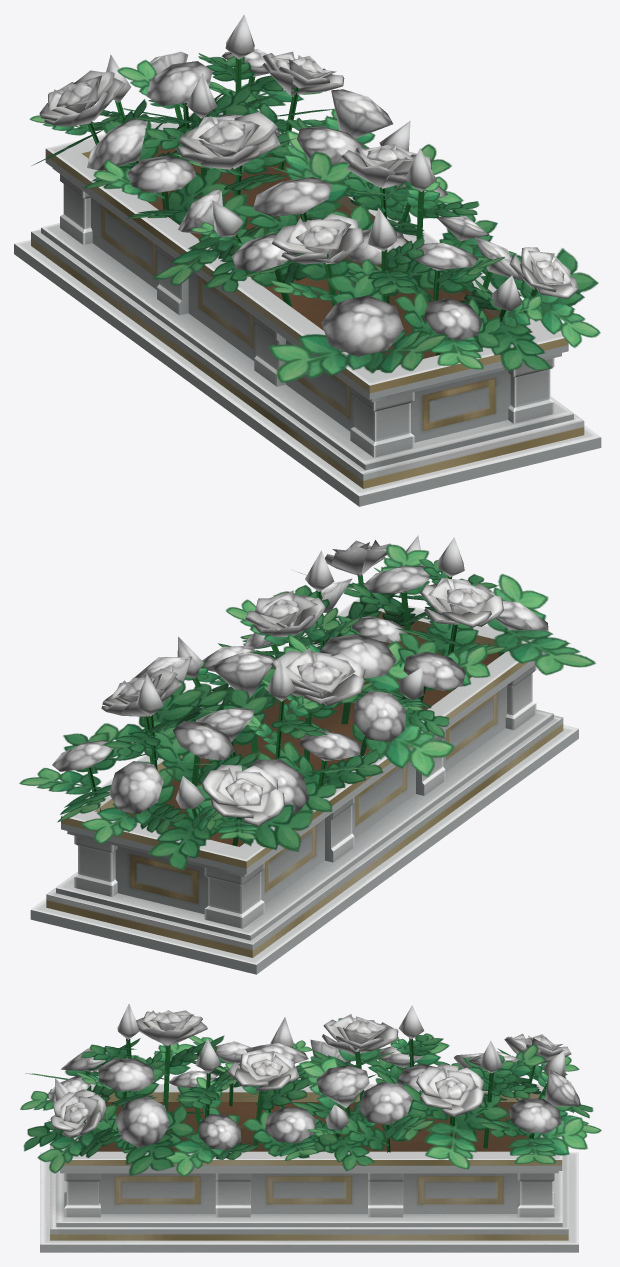
File: my_teaparty_01_flowerpot_02.glb
The picture shows the model from 3 angles, top to bottom: view 1: azimuth 30°, elevation 25°; view 2: azimuth 150°, elevation 25°; view 3: azimuth 270°, elevation 25°; orthographic projection. The views are drawn at different scales.
Parts seen in each view (by area): view 1: my_teaparty_01_flowerpot_02; view 2: my_teaparty_01_flowerpot_02; view 3: my_teaparty_01_flowerpot_02.
Boxes of the visible parts, x1=… form: my_teaparty_01_flowerpot_02: x1=14, y1=14, x2=601, y2=506; my_teaparty_01_flowerpot_02: x1=19, y1=535, x2=596, y2=974; my_teaparty_01_flowerpot_02: x1=20, y1=1003, x2=601, y2=1252.
Bounding box in the file's own units: 0.00607 × 0.0042 × 0.0121.
Materials: 2 (2 with a texture image).
